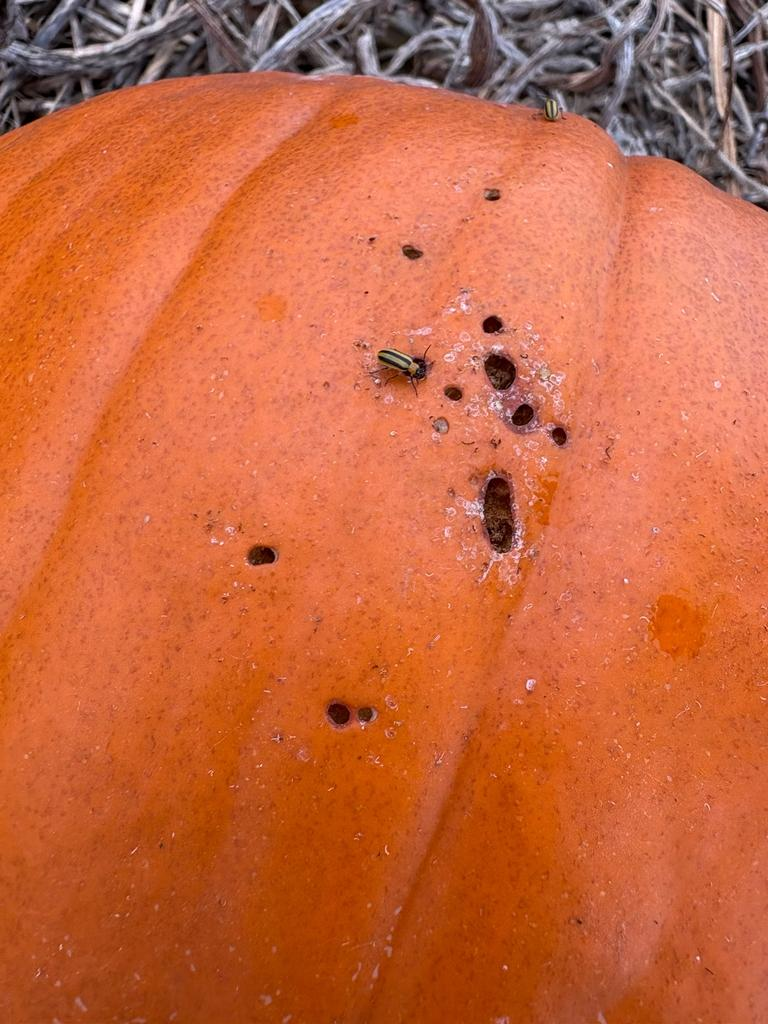potato_beetle: (353, 332, 451, 405)
